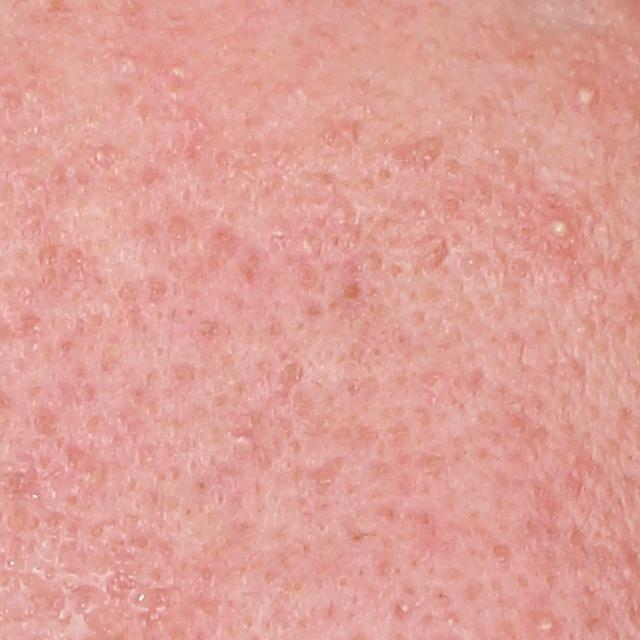atrophic_scar: (295, 454, 347, 500), (392, 136, 447, 171)
comedo: (299, 235, 319, 257), (391, 598, 409, 621), (442, 616, 457, 629)
pustule: (542, 213, 576, 242), (574, 81, 602, 106)
